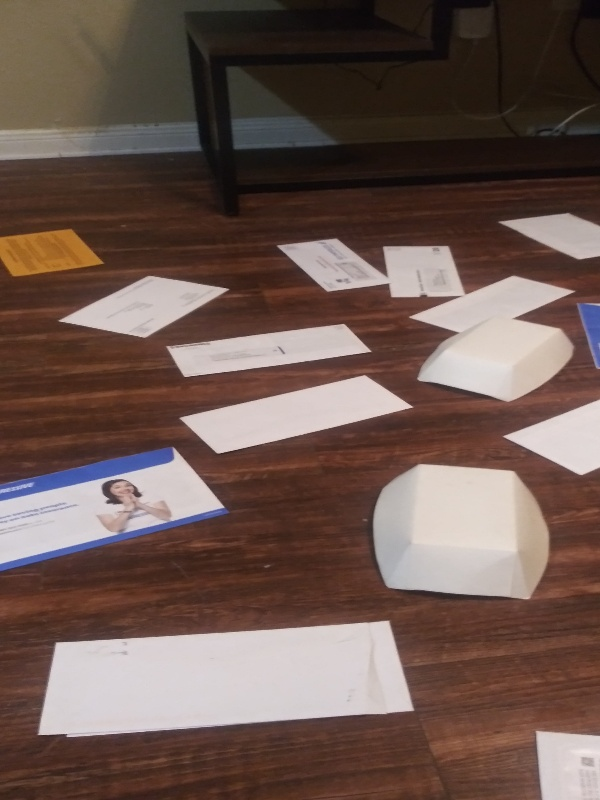plate: (368, 464, 552, 606), (414, 313, 580, 407)
